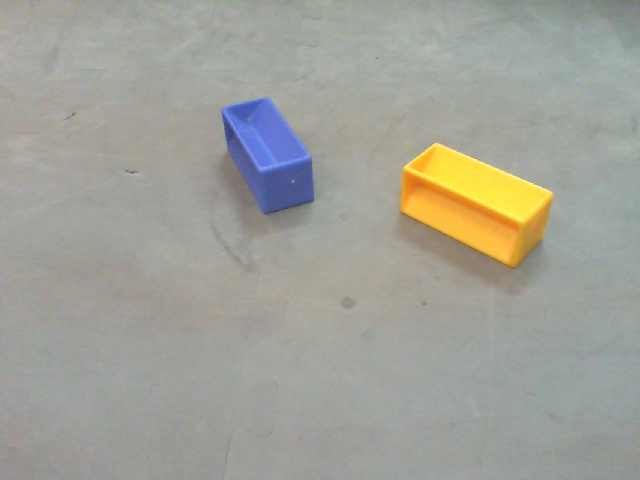BlueSample: (218, 97, 321, 217)
YellowSample: (398, 136, 555, 271)
